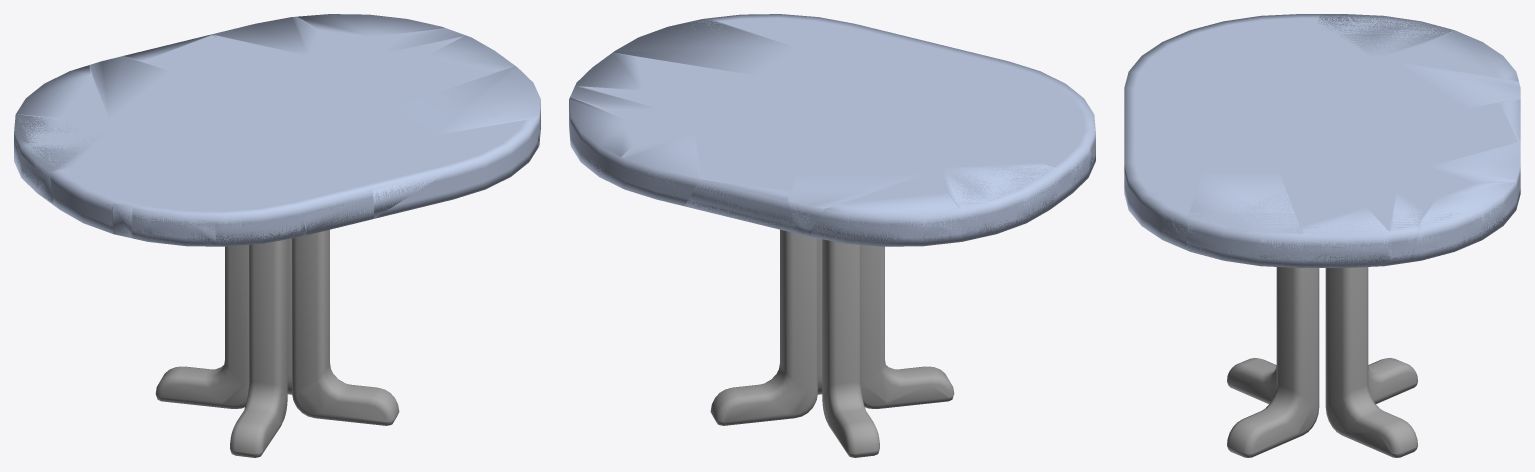
Rendered from Small Table.fbx.
3 views of the same model, side by side, from view 1: azimuth 30°, elevation 25°; view 2: azimuth 150°, elevation 25°; view 3: azimuth 270°, elevation 25° (orthographic).
Visible parts, largest first — view 1: Glass table top, Base twisted, Glass table top_cell.018, Glass table top_cell.028, Glass table top_cell.007, Glass table top_cell.002, Glass table top_cell.014, Glass table top_cell.011, Glass table top_cell.026, Glass table top_cell, Glass table top_cell.005, Glass table top_cell.022 (+16 smaller); view 2: Glass table top, Base twisted, Glass table top_cell.018, Glass table top_cell.028, Glass table top_cell.022, Glass table top_cell.011, Glass table top_cell.025, Glass table top_cell.007, Glass table top_cell.002, Glass table top_cell.014, Glass table top_cell.026, Glass table top_cell (+11 smaller); view 3: Glass table top, Base twisted, Glass table top_cell.018, Glass table top_cell.002, Glass table top_cell.028, Glass table top_cell.007, Glass table top_cell.014, Glass table top_cell.011, Glass table top_cell.026, Glass table top_cell.005, Glass table top_cell, Glass table top_cell.020 (+12 smaller).
Part boxes in pixels (x1,y1,x2,y2): Glass table top: (14, 16, 540, 246); Base twisted: (155, 229, 399, 457); Glass table top_cell.018: (387, 66, 540, 147); Glass table top_cell.028: (89, 56, 212, 125); Glass table top_cell.007: (90, 129, 252, 178); Glass table top_cell.002: (389, 35, 514, 106); Glass table top_cell.014: (114, 107, 263, 159); Glass table top_cell.011: (14, 114, 113, 204); Glass table top_cell.026: (212, 16, 331, 63); Glass table top_cell: (212, 86, 315, 139); Glass table top_cell.005: (297, 14, 444, 37); Glass table top_cell.022: (124, 34, 247, 70); Glass table top: (569, 14, 1095, 246); Base twisted: (710, 229, 954, 457); Glass table top_cell.018: (613, 18, 798, 76); Glass table top_cell.028: (789, 143, 934, 232); Glass table top_cell.022: (685, 155, 795, 232); Glass table top_cell.011: (936, 160, 1061, 240); Glass table top_cell.025: (807, 192, 961, 246); Glass table top_cell.007: (938, 100, 1026, 167); Glass table top_cell.002: (575, 53, 756, 93); Glass table top_cell.014: (851, 101, 941, 169); Glass table top_cell.026: (621, 133, 725, 203); Glass table top_cell: (774, 96, 889, 145); Glass table top: (1124, 14, 1520, 267); Base twisted: (1227, 267, 1417, 457); Glass table top_cell.018: (1187, 167, 1304, 266); Glass table top_cell.002: (1280, 172, 1391, 267); Glass table top_cell.028: (1371, 60, 1520, 110); Glass table top_cell.007: (1222, 32, 1374, 93); Glass table top_cell.014: (1242, 59, 1381, 107); Glass table top_cell.011: (1316, 14, 1454, 60); Glass table top_cell.026: (1424, 142, 1520, 205); Glass table top_cell.005: (1409, 182, 1516, 262); Glass table top_cell: (1278, 105, 1381, 139); Glass table top_cell.020: (1194, 110, 1272, 163).
Bounding box in the file's own units: 124 × 76.24 × 93.08.
